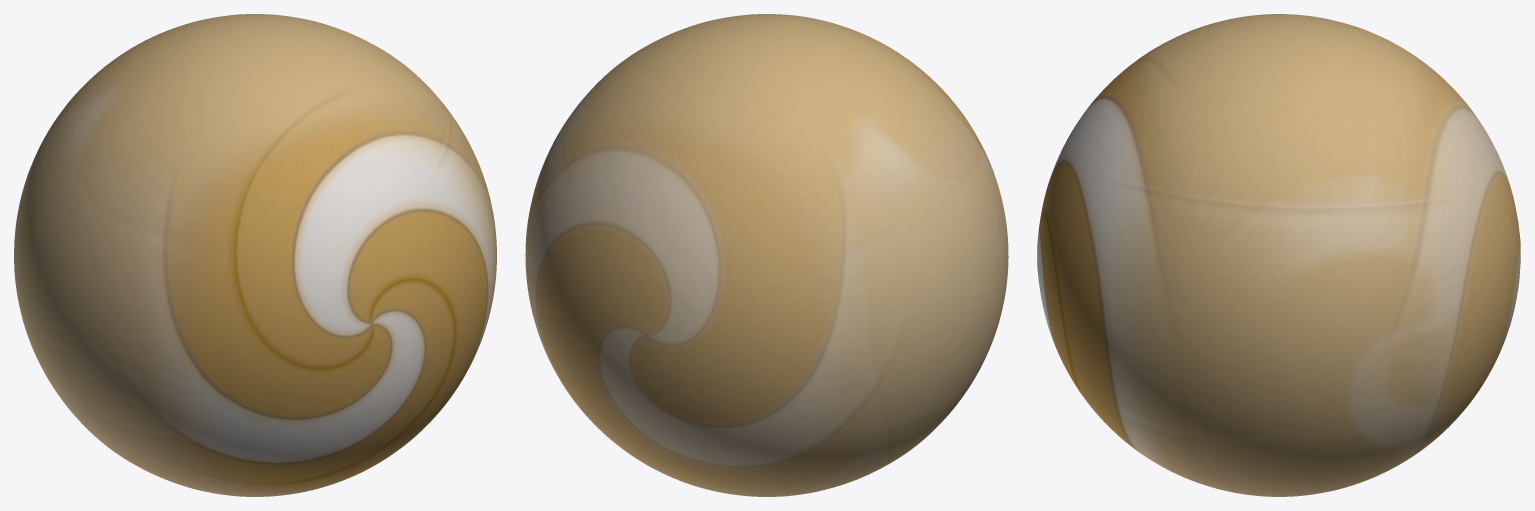
The model's file is level2pistolbullet.glb.
3 views of the same model, side by side, from view 1: azimuth 30°, elevation 25°; view 2: azimuth 150°, elevation 25°; view 3: azimuth 270°, elevation 25° (orthographic).
Bounding box in the file's own units: 1.9 × 1.89 × 1.9.
Materials: 1 (1 with a texture image).
